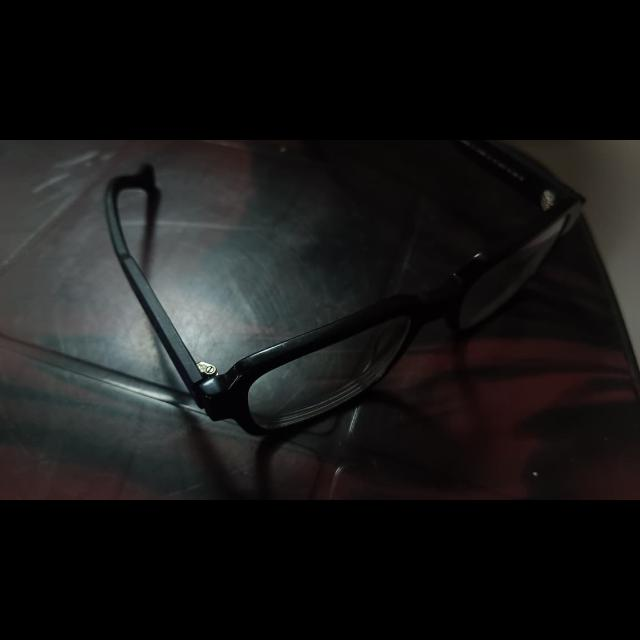glasses: (108, 144, 570, 432)
